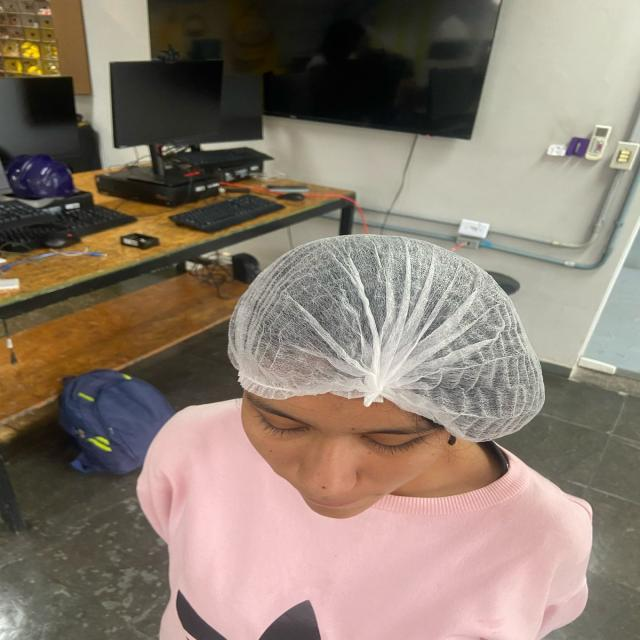TOUCA: (213, 233, 578, 444)
